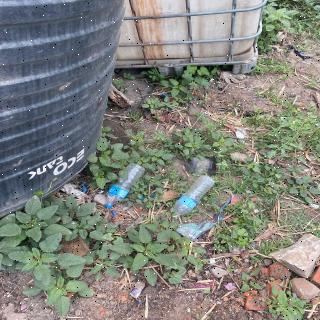Plastic-bottle: (167, 174, 220, 222), (103, 161, 151, 212)
